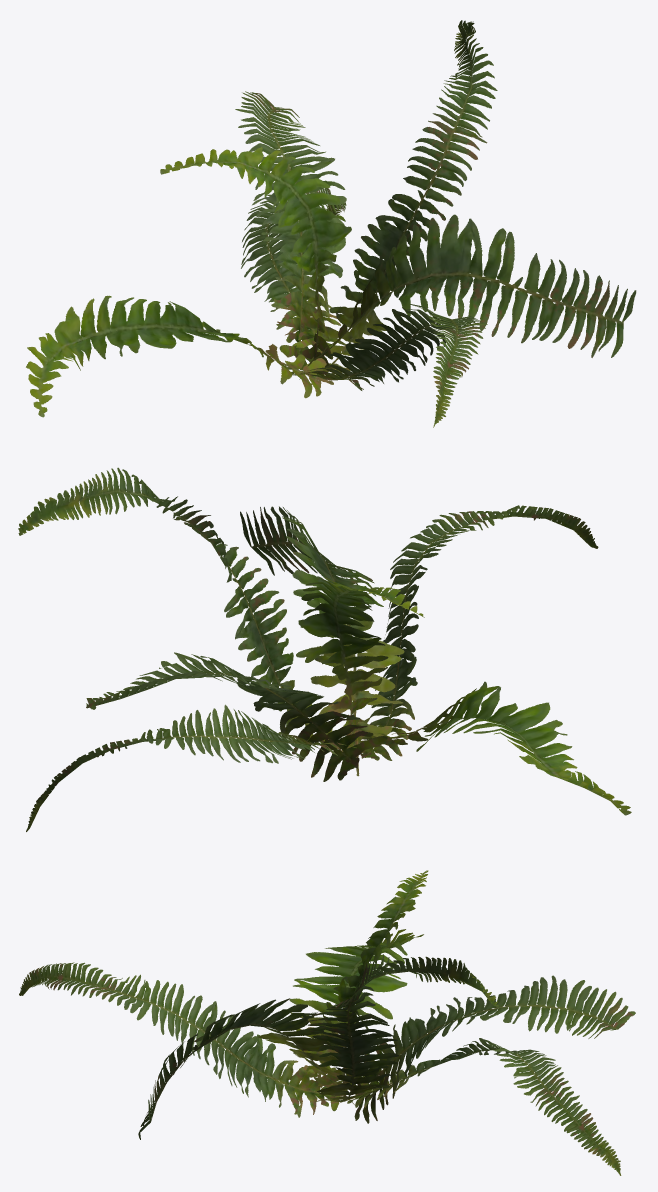
The picture shows the model from 3 angles, top to bottom: view 1: azimuth 30°, elevation 25°; view 2: azimuth 150°, elevation 25°; view 3: azimuth 270°, elevation 25°; orthographic projection. The views are drawn at different scales.
Parts seen in each view (by area): view 1: fern_02__a_lod0; view 2: fern_02__a_lod0; view 3: fern_02__a_lod0.
Boxes of the visible parts, left/top/right/bottom form: fern_02__a_lod0: left=26, top=20, right=636, bottom=427; fern_02__a_lod0: left=18, top=467, right=631, bottom=831; fern_02__a_lod0: left=19, top=870, right=635, bottom=1175.
Size of the model in its own units: 0.5519 by 0.2868 by 0.6134.
Materials: 1 (1 with a texture image).
